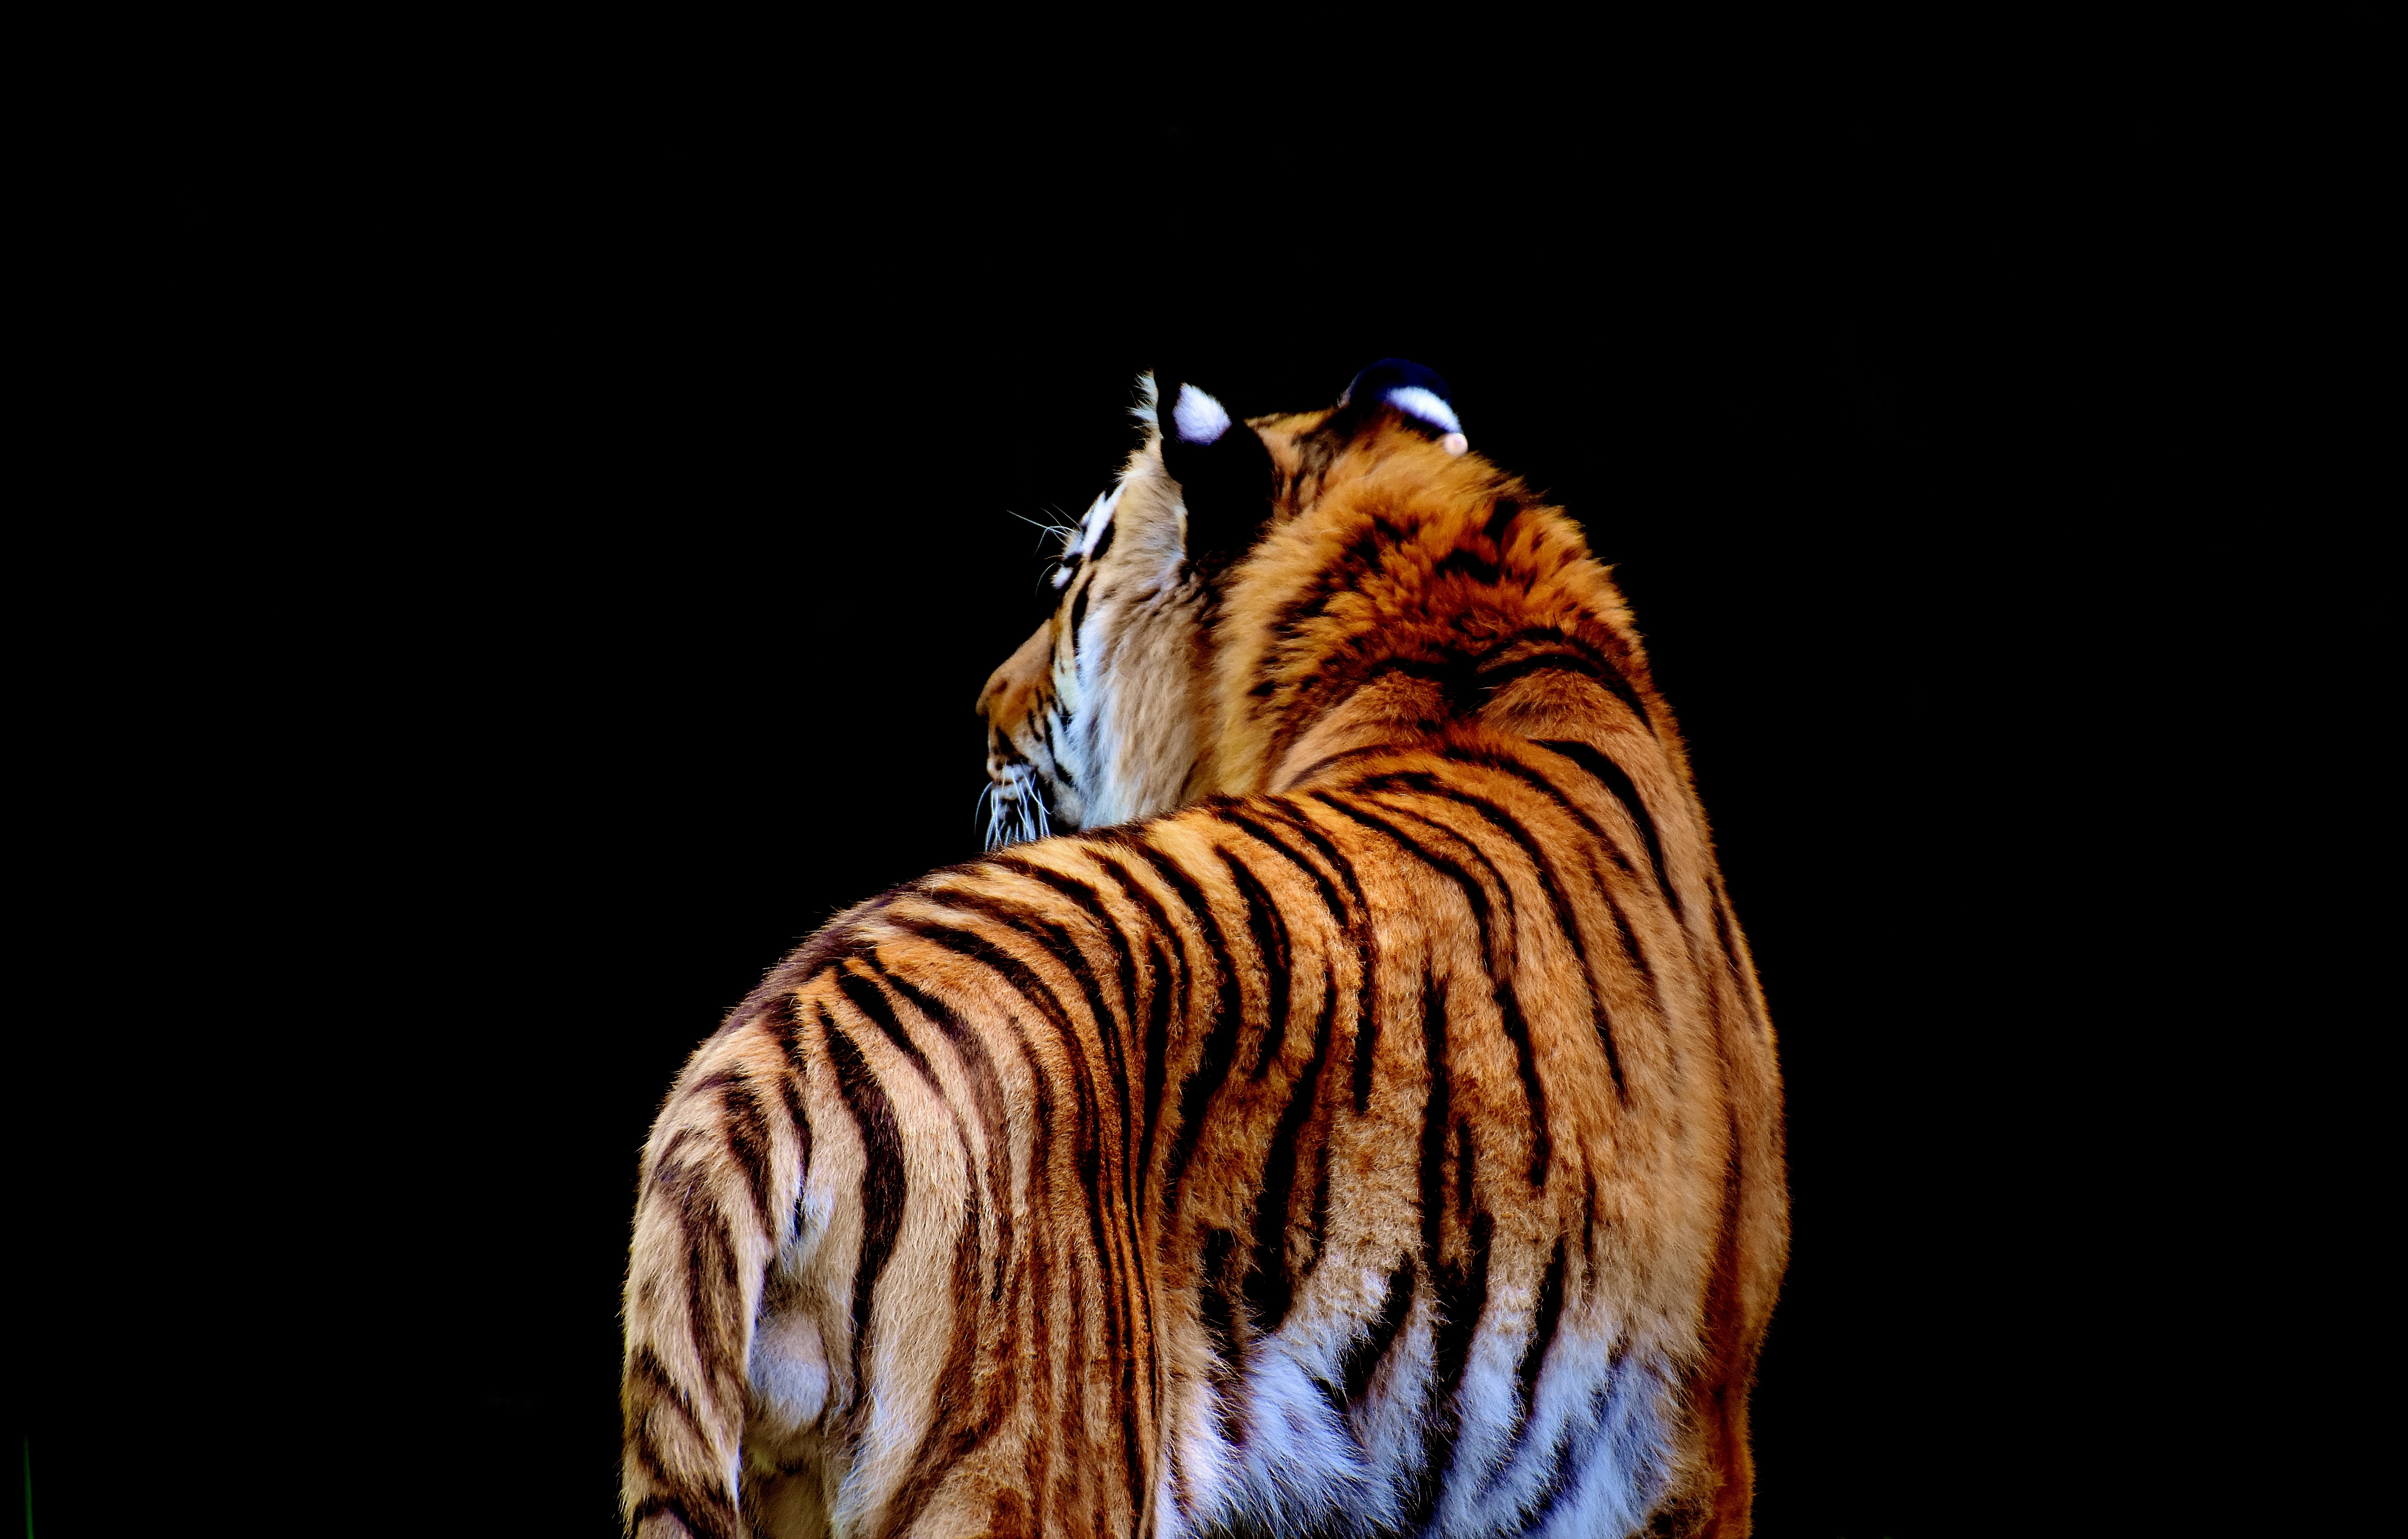tiger: (613, 339, 1850, 1539)
